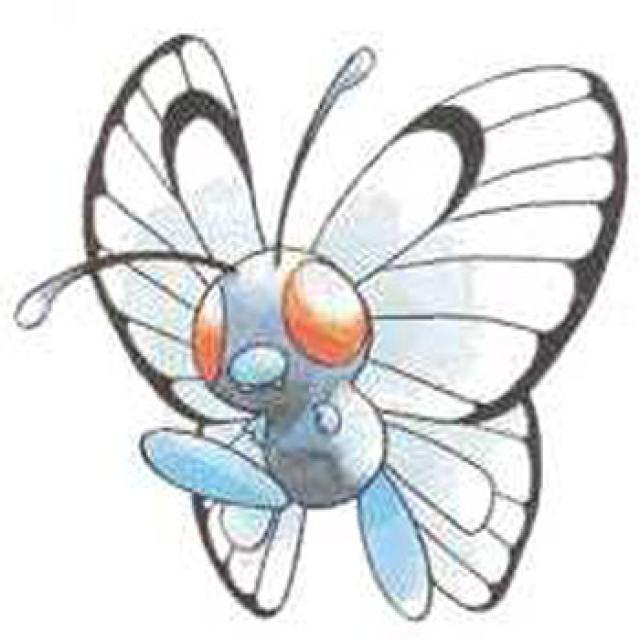Butterfree: (156, 90, 493, 610)
